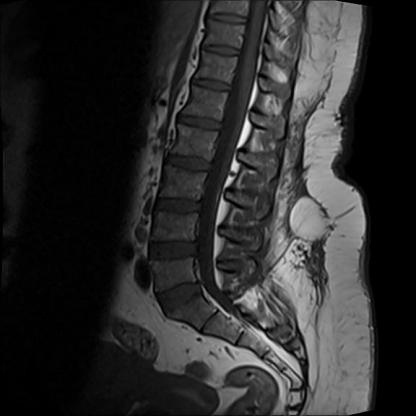Disc Bulgerotation: (154, 280, 210, 313)
